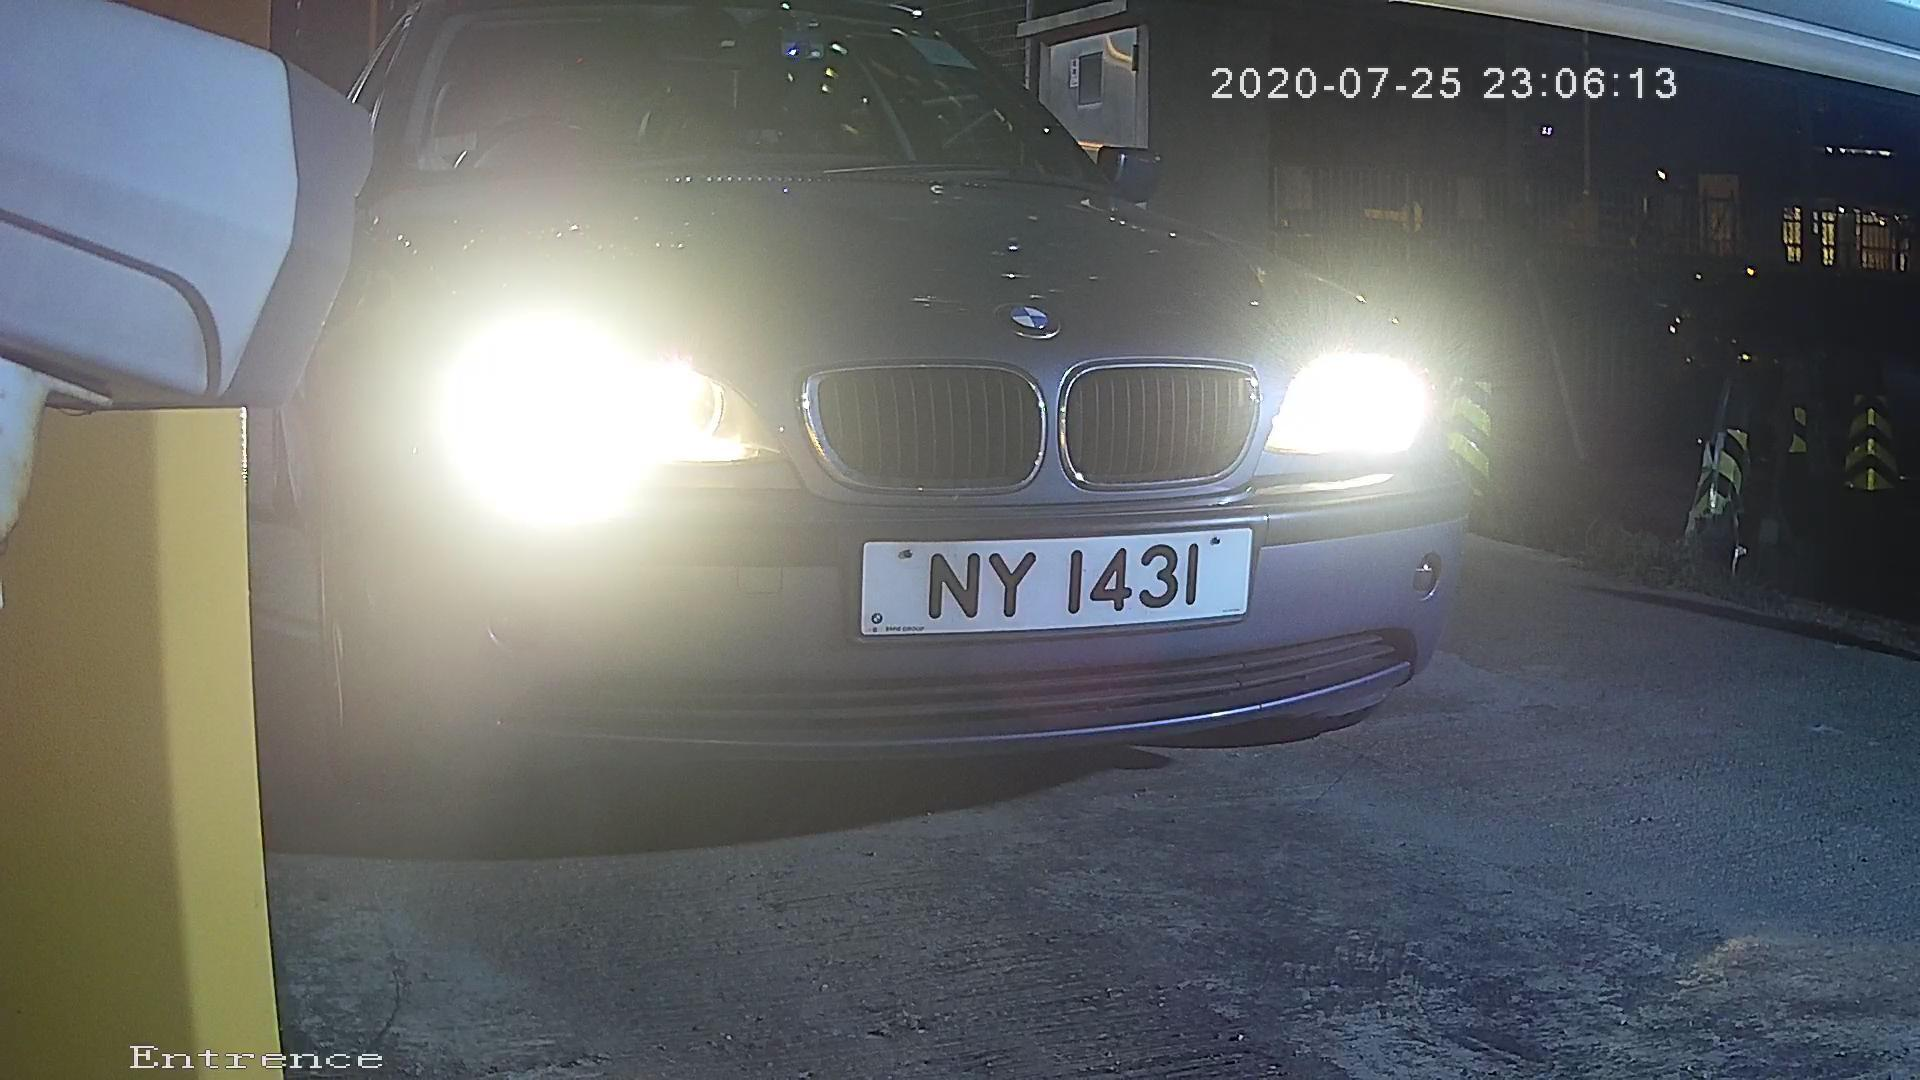privatecar: (309, 1, 1663, 839)
